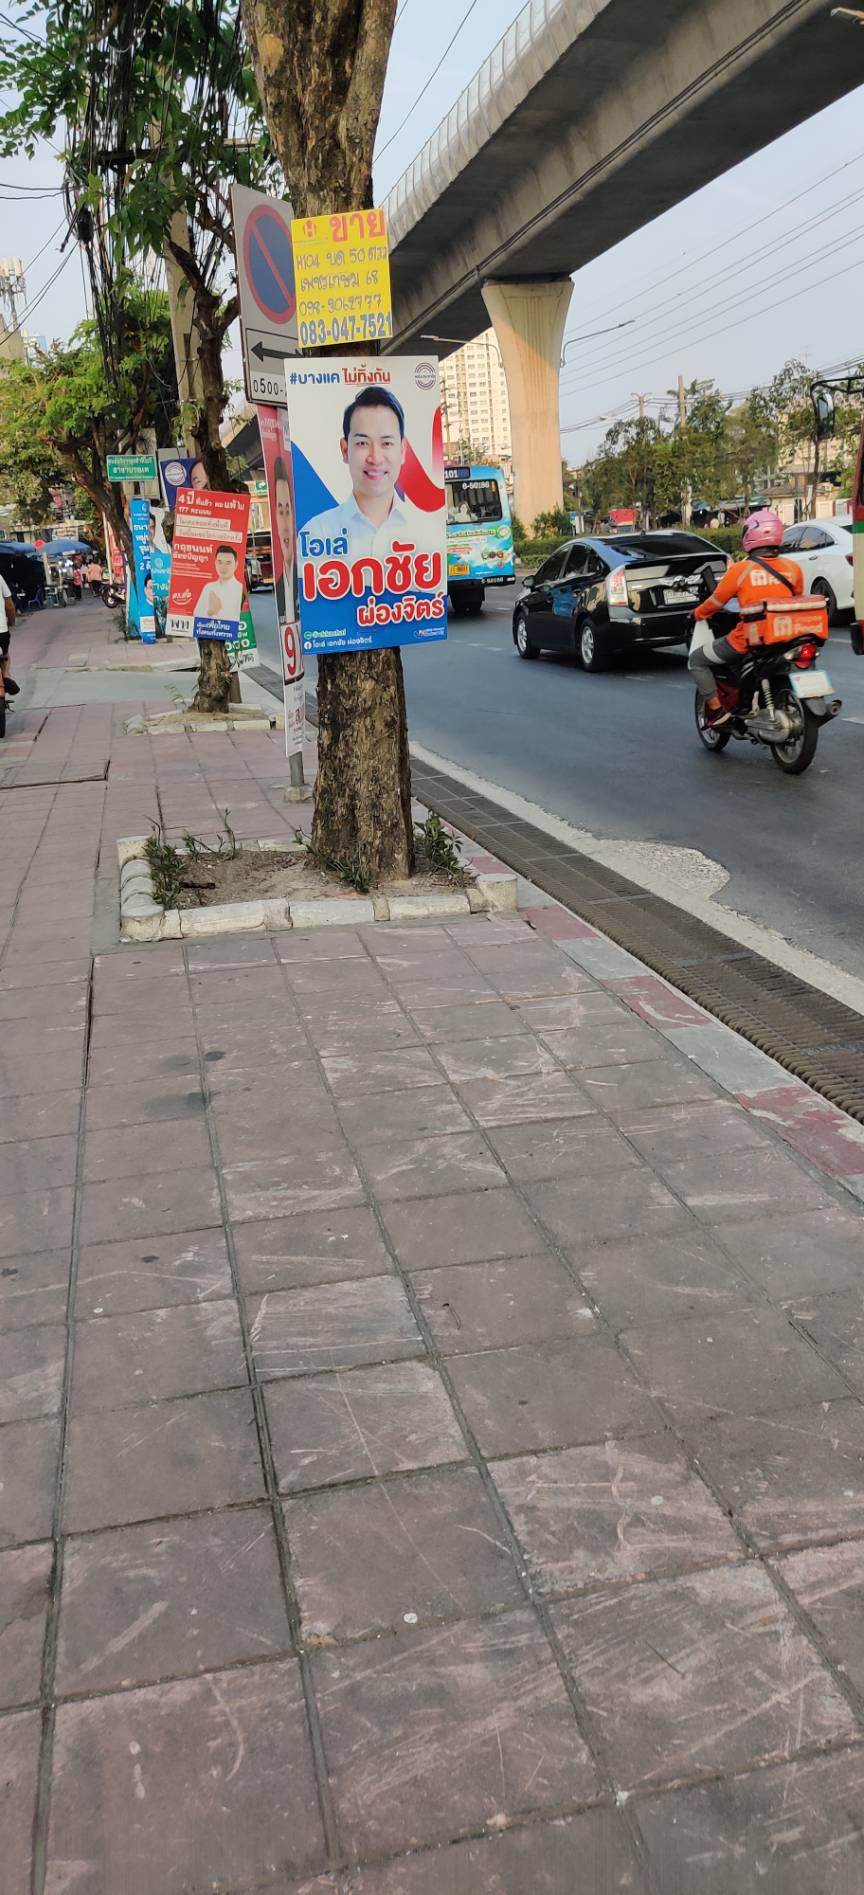Banner: (282, 350, 465, 641)
